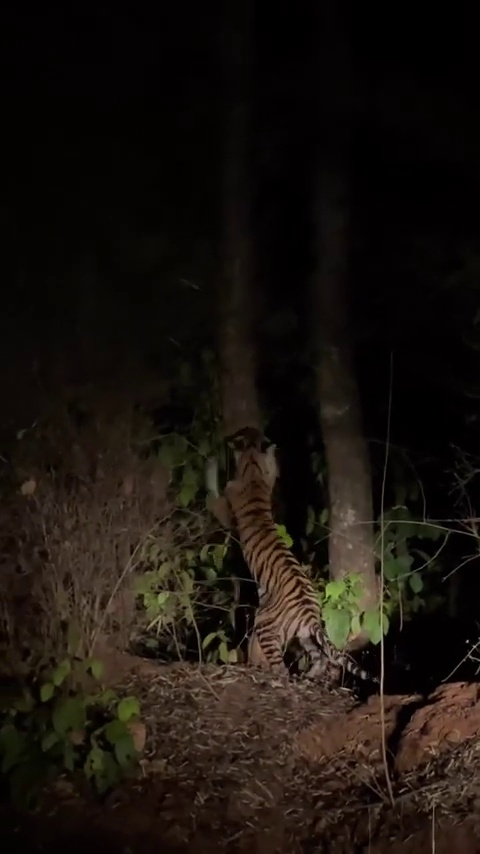Tiger: (201, 425, 382, 689)
